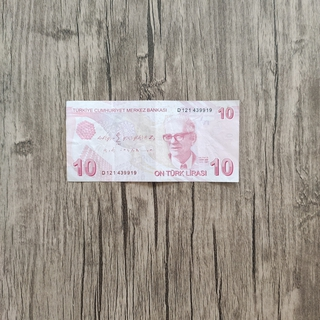10TLBack: (64, 99, 240, 183)
